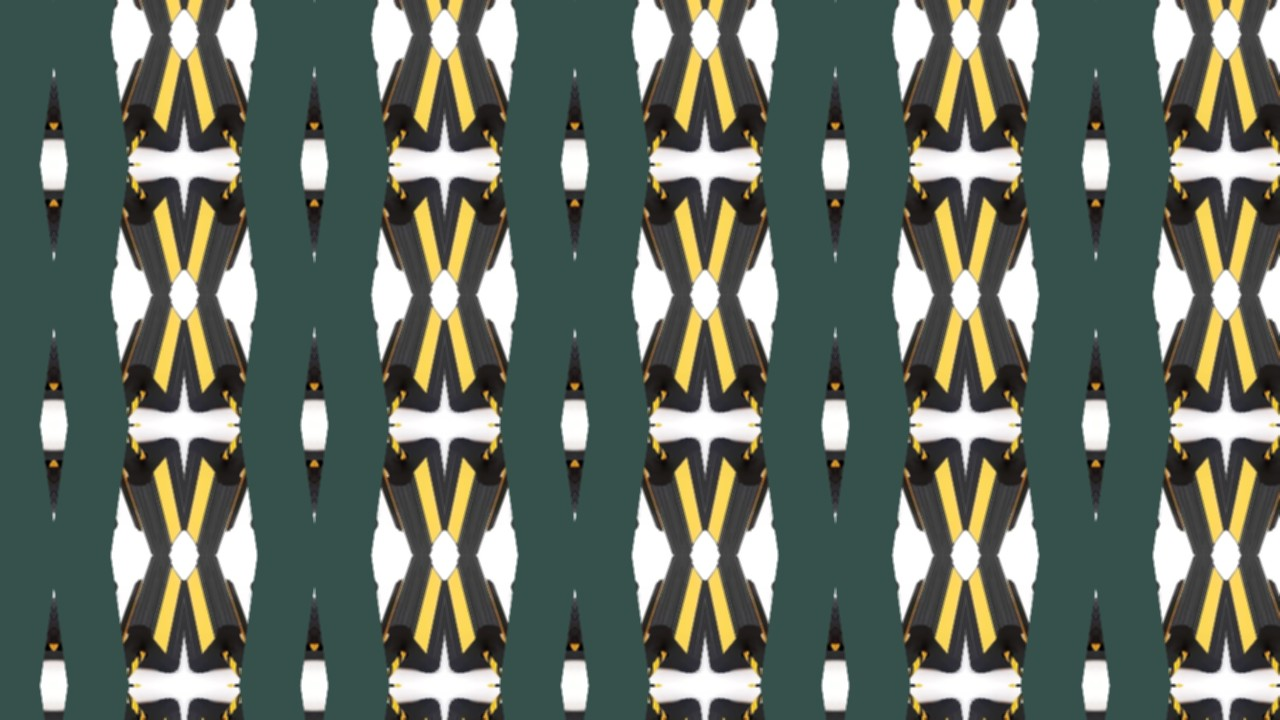chock: (183, 167, 273, 295), (444, 167, 534, 295), (705, 167, 795, 295), (966, 167, 1056, 295), (183, 428, 273, 556), (444, 428, 534, 556), (705, 428, 795, 556), (966, 428, 1056, 556), (183, 34, 273, 161), (444, 34, 534, 161), (705, 34, 795, 161), (966, 34, 1056, 161), (183, 295, 273, 422), (444, 295, 534, 422), (705, 295, 795, 422), (966, 295, 1056, 422), (183, 556, 273, 683), (444, 556, 534, 683), (705, 556, 795, 683), (966, 556, 1056, 683), (94, 167, 183, 295), (355, 167, 444, 295), (616, 167, 705, 295), (877, 167, 966, 295), (1138, 167, 1227, 295), (94, 428, 183, 556), (355, 428, 444, 556), (616, 428, 705, 556), (877, 428, 966, 556), (1138, 428, 1227, 556), (94, 34, 183, 161), (355, 34, 444, 161), (616, 34, 705, 161), (877, 34, 966, 161), (1138, 34, 1227, 161), (94, 295, 183, 422), (355, 295, 444, 422), (616, 295, 705, 422), (877, 295, 966, 422), (1138, 295, 1227, 422), (94, 556, 183, 683), (355, 556, 444, 683), (616, 556, 705, 683), (877, 556, 966, 683), (1138, 556, 1227, 683), (53, 178, 128, 295), (239, 178, 314, 295), (314, 178, 389, 295), (500, 178, 575, 295), (575, 178, 650, 295), (761, 178, 836, 295), (836, 178, 911, 295), (1022, 178, 1097, 295), (1097, 178, 1172, 295), (53, 439, 128, 556), (239, 439, 314, 556), (314, 439, 389, 556), (500, 439, 575, 556), (575, 439, 650, 556), (761, 439, 836, 556), (836, 439, 911, 556), (1022, 439, 1097, 556), (1097, 439, 1172, 556), (53, 34, 128, 150), (239, 34, 314, 150), (314, 34, 389, 150), (500, 34, 575, 150), (575, 34, 650, 150), (761, 34, 836, 150), (836, 34, 911, 150), (1022, 34, 1097, 150), (1097, 34, 1172, 150), (53, 295, 128, 411), (239, 295, 314, 411), (314, 295, 389, 411), (500, 295, 575, 411), (575, 295, 650, 411), (761, 295, 836, 411), (836, 295, 911, 411), (1022, 295, 1097, 411), (1097, 295, 1172, 411), (53, 556, 128, 672), (239, 556, 314, 672), (314, 556, 389, 672), (500, 556, 575, 672), (575, 556, 650, 672), (761, 556, 836, 672), (836, 556, 911, 672), (1022, 556, 1097, 672), (1097, 556, 1172, 672), (1227, 167, 1280, 295), (1227, 428, 1280, 556), (1227, 34, 1280, 161), (1227, 295, 1280, 422), (1227, 556, 1280, 683), (0, 178, 53, 295), (0, 439, 53, 556), (0, 34, 53, 150), (0, 295, 53, 411), (0, 556, 53, 672), (183, 0, 273, 34), (444, 0, 534, 34), (705, 0, 795, 34), (966, 0, 1056, 34), (94, 0, 183, 34), (355, 0, 444, 34), (616, 0, 705, 34), (877, 0, 966, 34), (1138, 0, 1227, 34), (183, 689, 273, 720), (444, 689, 534, 720), (705, 689, 795, 720), (966, 689, 1056, 720), (94, 689, 183, 720), (355, 689, 444, 720), (616, 689, 705, 720), (877, 689, 966, 720), (1138, 689, 1227, 720), (53, 0, 128, 34), (239, 0, 314, 34), (314, 0, 389, 34), (500, 0, 575, 34), (575, 0, 650, 34), (761, 0, 836, 34), (836, 0, 911, 34), (1022, 0, 1097, 34), (1097, 0, 1172, 34), (0, 0, 53, 34), (1227, 0, 1280, 34), (1227, 689, 1280, 720), (0, 167, 12, 295), (0, 428, 12, 556), (0, 34, 12, 161), (0, 295, 12, 422), (0, 556, 12, 683), (53, 700, 128, 720), (239, 700, 314, 720), (314, 700, 389, 720), (500, 700, 575, 720), (575, 700, 650, 720), (761, 700, 836, 720), (836, 700, 911, 720), (1022, 700, 1097, 720), (1097, 700, 1172, 720), (0, 700, 53, 720)
